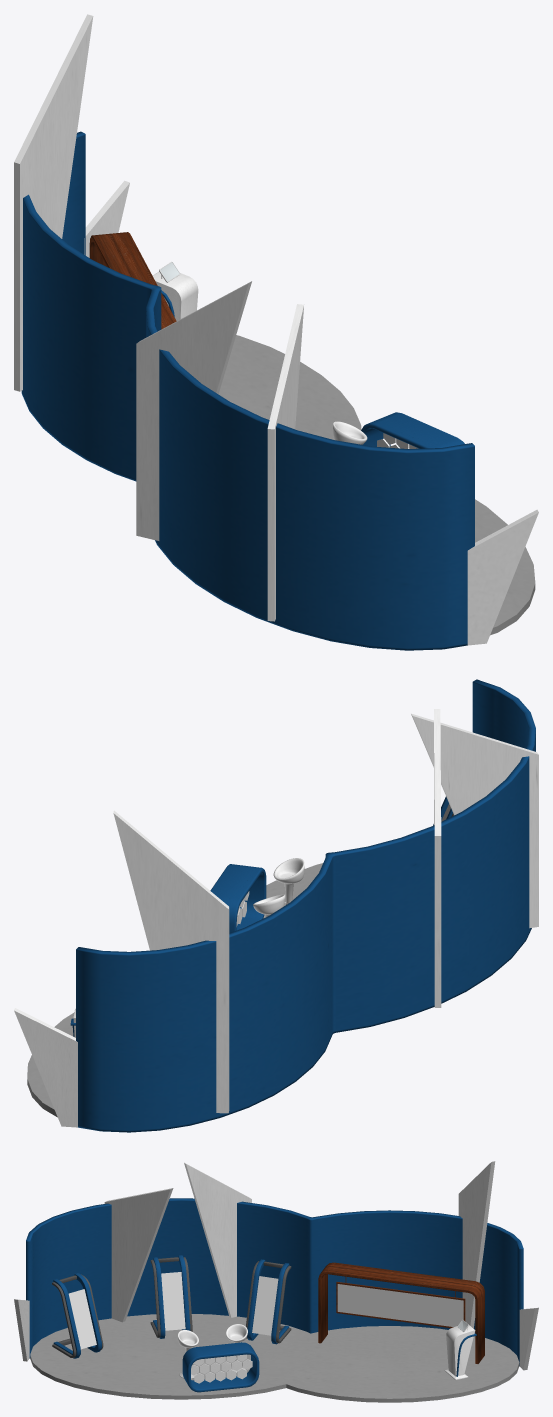
Rendered from booth_REVISI 2.fbx.
3 views of the same model, one above another, from view 1: azimuth 30°, elevation 25°; view 2: azimuth 150°, elevation 25°; view 3: azimuth 270°, elevation 25° (orthographic). The views are drawn at different scales.
Visible parts, largest first — view 1: dinding, ornamen dinding, alas, papan timeline, meja info s&k, Quiz.001; view 2: dinding, ornamen dinding, meja info s&k, alas, kursi 2.2; view 3: dinding, alas, ornamen dinding, gambar disini, papan timeline, meja info s&k, Plane.005, Plane.004, Plane.002, Circle.006, gambar 2.2, gambar 2.3 (+5 smaller).
Part boxes in pixels (bbox=[...]): dinding: bbox=[21, 131, 474, 650]; ornamen dinding: bbox=[14, 14, 538, 645]; alas: bbox=[218, 335, 535, 635]; papan timeline: bbox=[89, 232, 176, 329]; meja info s&k: bbox=[361, 412, 464, 448]; Quiz.001: bbox=[153, 271, 198, 320]; dinding: bbox=[76, 679, 535, 1132]; ornamen dinding: bbox=[14, 709, 538, 1127]; meja info s&k: bbox=[210, 864, 266, 932]; alas: bbox=[27, 863, 322, 1117]; kursi 2.2: bbox=[273, 858, 304, 903]; dinding: bbox=[26, 1198, 523, 1365]; alas: bbox=[30, 1314, 519, 1402]; ornamen dinding: bbox=[14, 1161, 538, 1370]; gambar disini: bbox=[337, 1284, 463, 1326]; papan timeline: bbox=[318, 1262, 484, 1363]; meja info s&k: bbox=[182, 1342, 259, 1392]; Plane.005: bbox=[52, 1273, 103, 1358]; Plane.004: bbox=[246, 1259, 291, 1344]; Plane.002: bbox=[150, 1255, 192, 1338]; Circle.006: bbox=[191, 1354, 252, 1383]; gambar 2.2: bbox=[161, 1272, 185, 1330]; gambar 2.3: bbox=[252, 1276, 278, 1335].
Size of the model in its own units: 480 by 510 by 1215.
